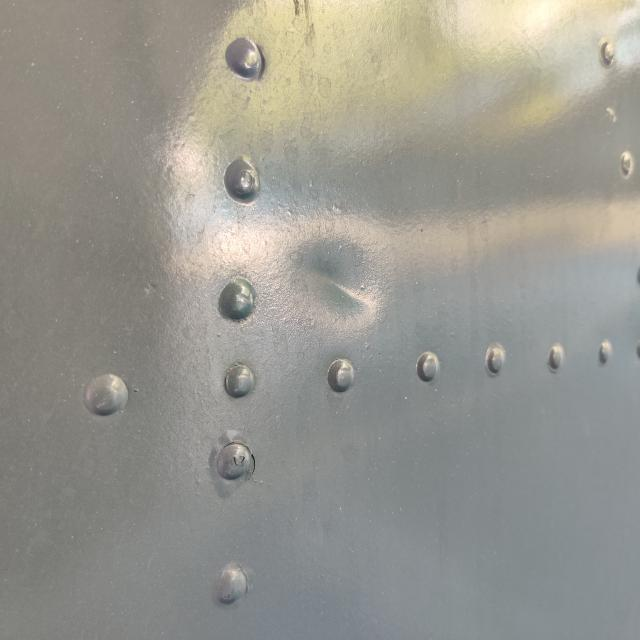dent: (250, 213, 416, 367)
